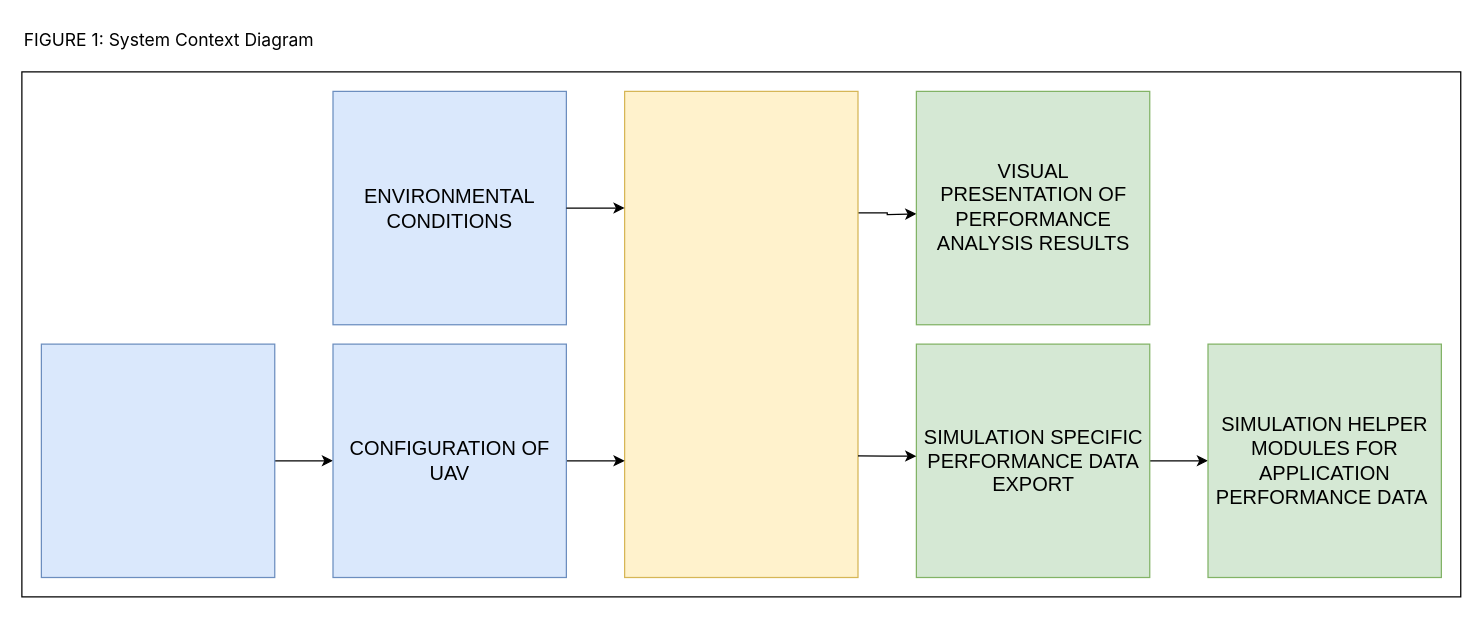
Some shapes in this 1484 by 619 pixel diagram are drawn without their labels. The box of each missing label's shape, as (x1, y1, x2, y2) in pixels:
PERFORMANCE DATA OF COMPONENTS: (40, 343, 275, 578)
SETUAV TOOLKIT: (623, 90, 858, 578)
